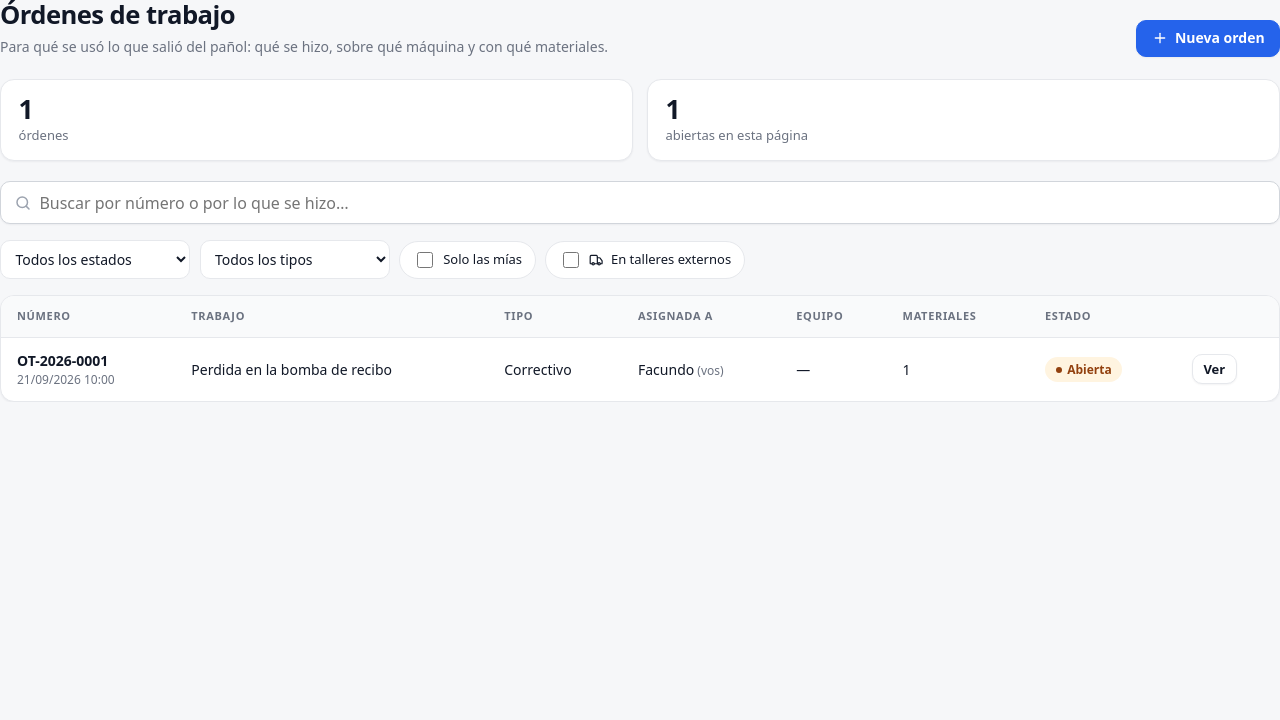
it: OrdenesTrabajoPage › el detalle muestra los materiales que salieron del paniol
Click the button "Ver" at (1214, 369), box [1192, 354, 1237, 384]
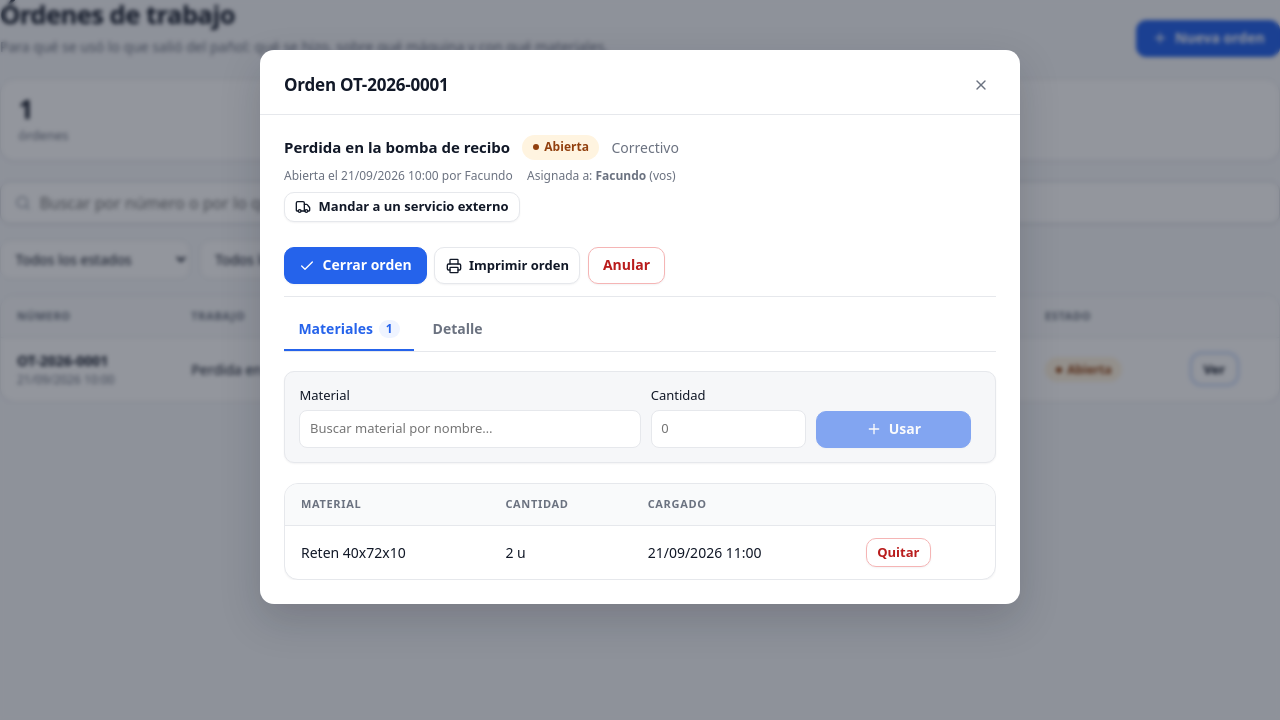
Check: the heading "Orden OT-2026-0001" is shown, box [284, 72, 449, 98]
Check: the text "Reten 40x72x10" is shown, box [285, 526, 489, 580]
